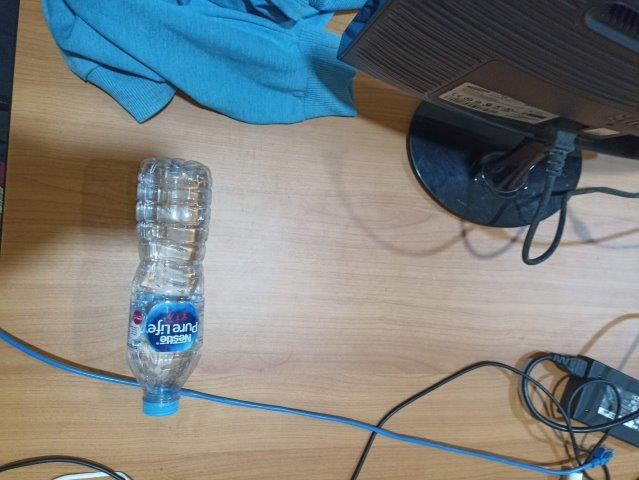botolplastik: (128, 156, 213, 414)
